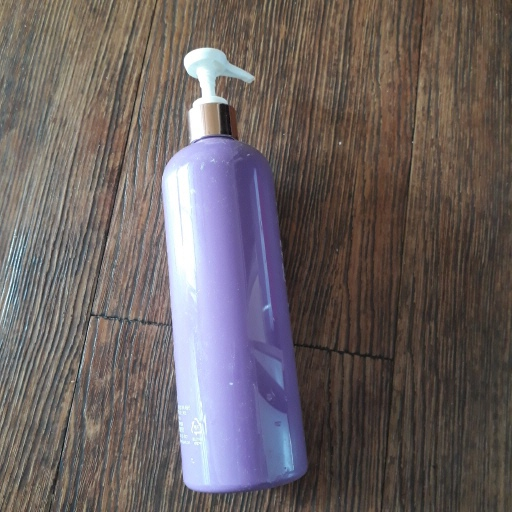Plastic_3: (159, 44, 307, 497)
